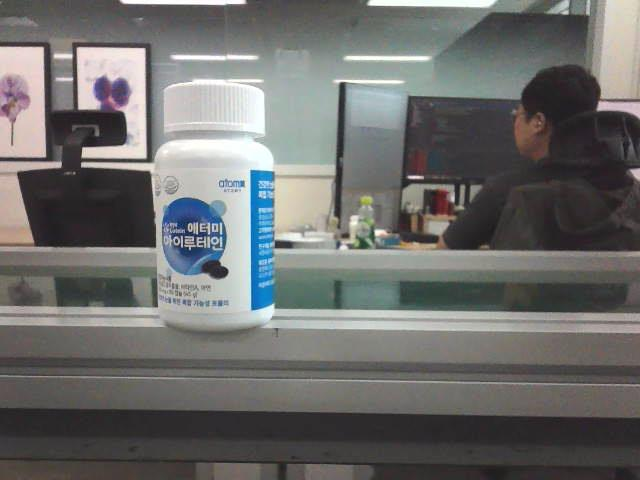labeled: (149, 75, 280, 336)
